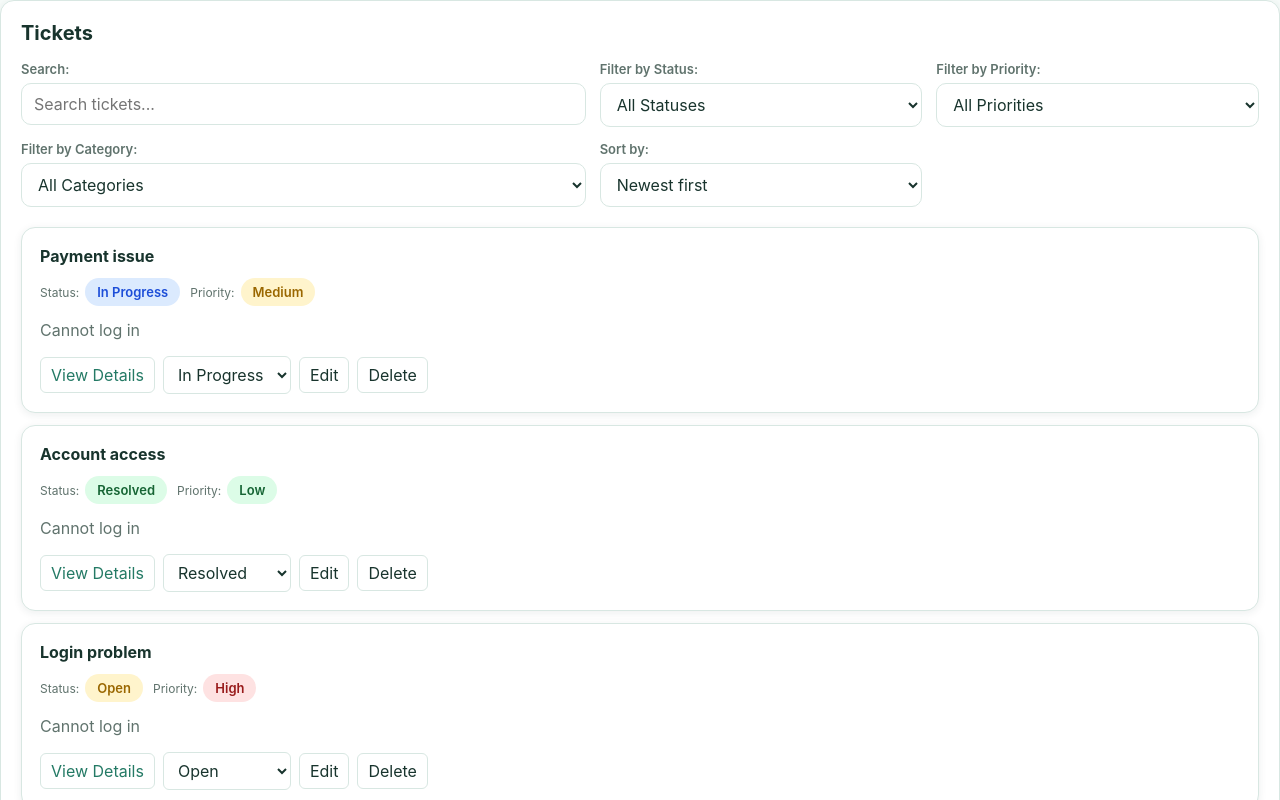
Test: TicketList › filters tickets by search term
Type "payment" into the field labelled "Search:". click: (303, 104)
box: [21,83,586,125]
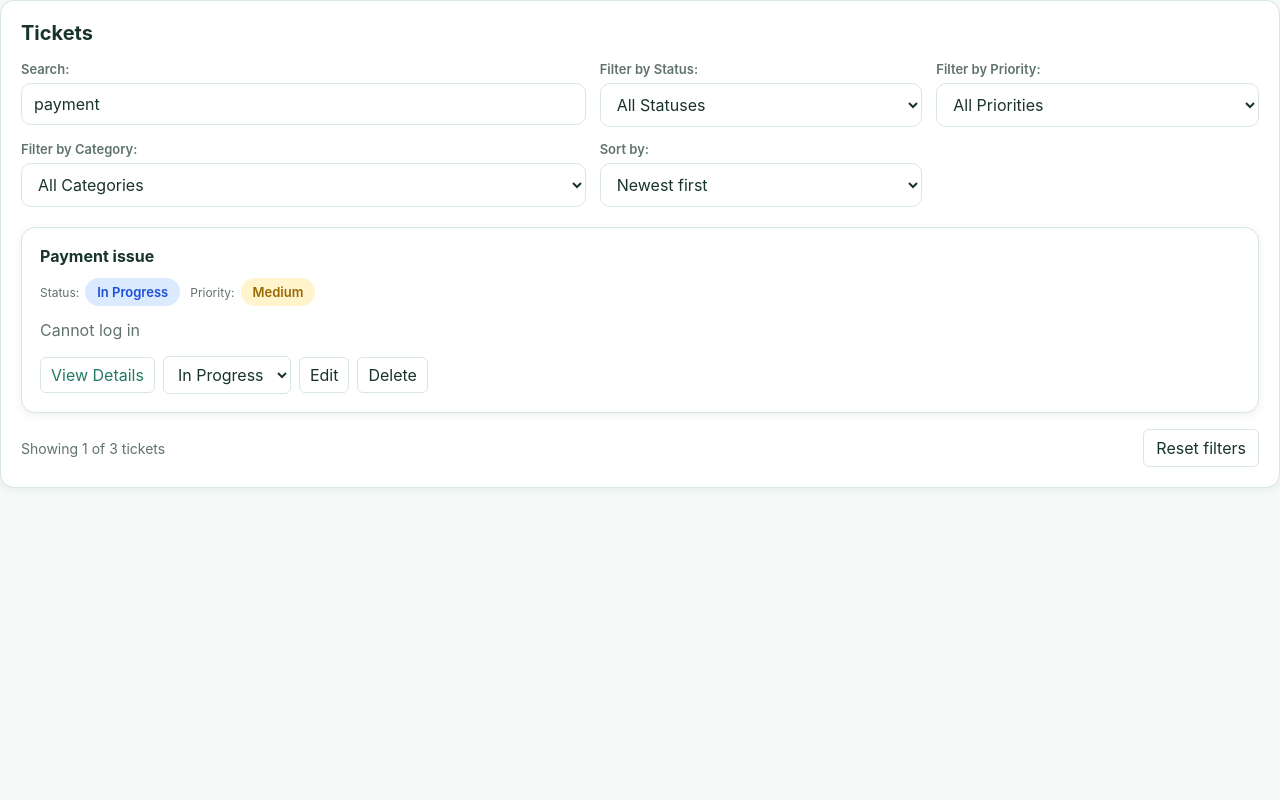
Expected: the heading "Payment issue" is shown, [40,246,154,266]
Now the heading "Login problem" is gone
Now the text "Showing 1 of 3 tickets" is shown, box [21,440,165,456]
